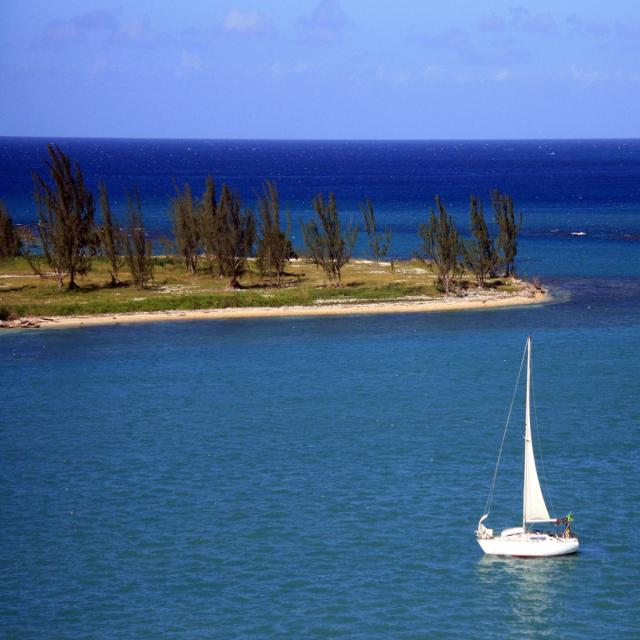Boat: (470, 347, 580, 537)
